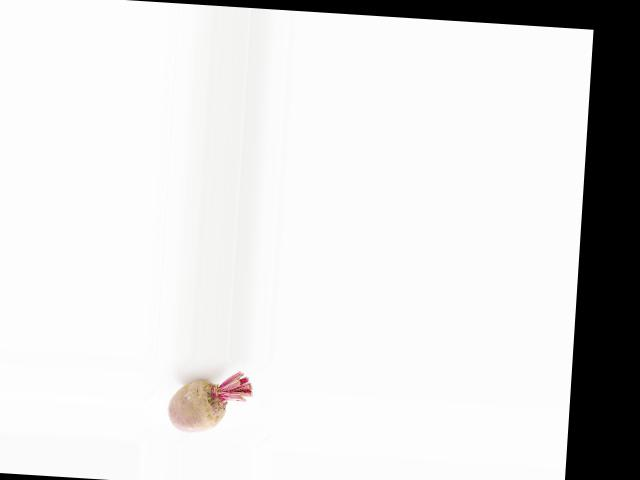beet: (166, 366, 253, 436)
